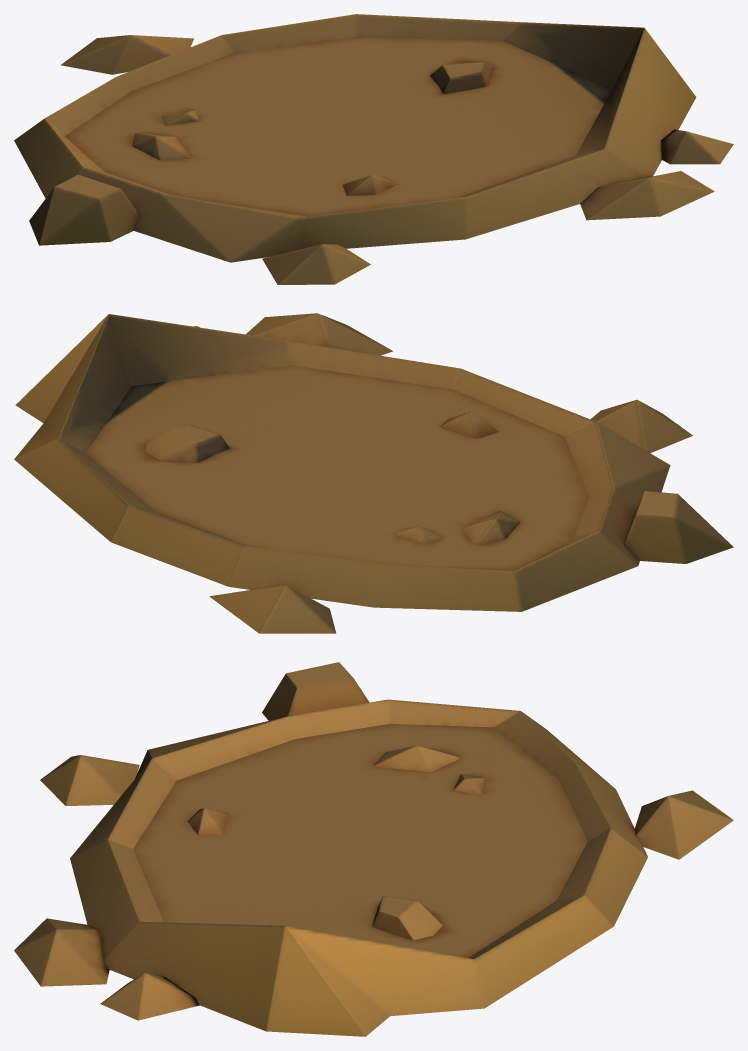
The model's file is Sce_worldmap_copper_03.FBX.
3 views of the same model, one above another, from view 1: azimuth 30°, elevation 25°; view 2: azimuth 150°, elevation 25°; view 3: azimuth 270°, elevation 25° (orthographic). The views are drawn at different scales.
Visible parts, largest first — view 1: Sce_worldmap_copper_03; view 2: Sce_worldmap_copper_03; view 3: Sce_worldmap_copper_03.
Part boxes in pixels (bbox=[...]): Sce_worldmap_copper_03: bbox=[14, 14, 733, 284]; Sce_worldmap_copper_03: bbox=[14, 313, 733, 633]; Sce_worldmap_copper_03: bbox=[14, 662, 733, 1036].
Bounding box in the file's own units: 57.48 × 6.2 × 49.2.
